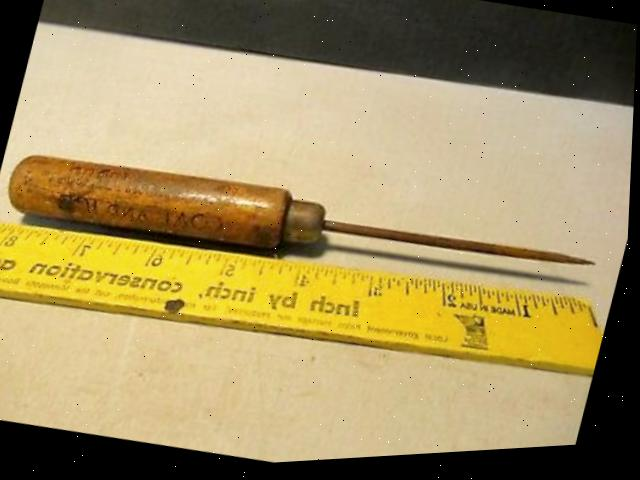ice pick: (0, 121, 609, 335)
